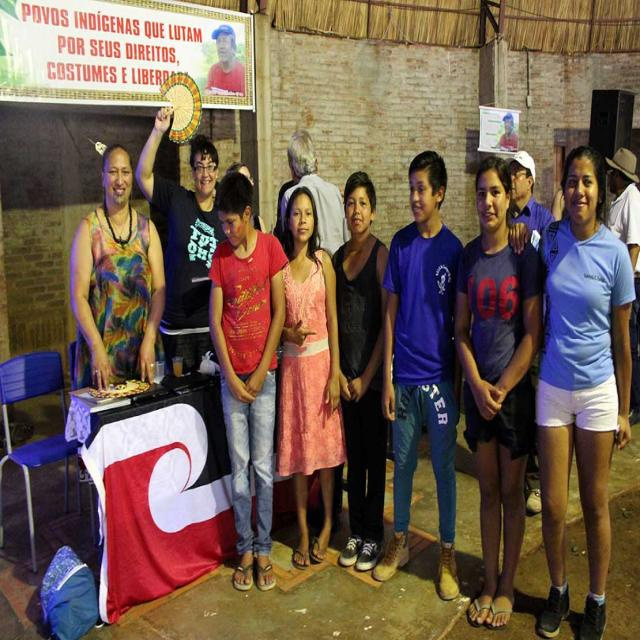body: (507, 141, 638, 639), (452, 152, 547, 630), (373, 148, 469, 604), (202, 168, 289, 592), (323, 168, 396, 574), (68, 138, 166, 396), (281, 183, 346, 569), (134, 106, 228, 370), (503, 148, 556, 514), (604, 143, 640, 430), (278, 129, 350, 258), (205, 21, 248, 98), (224, 160, 266, 234), (495, 111, 519, 152)
